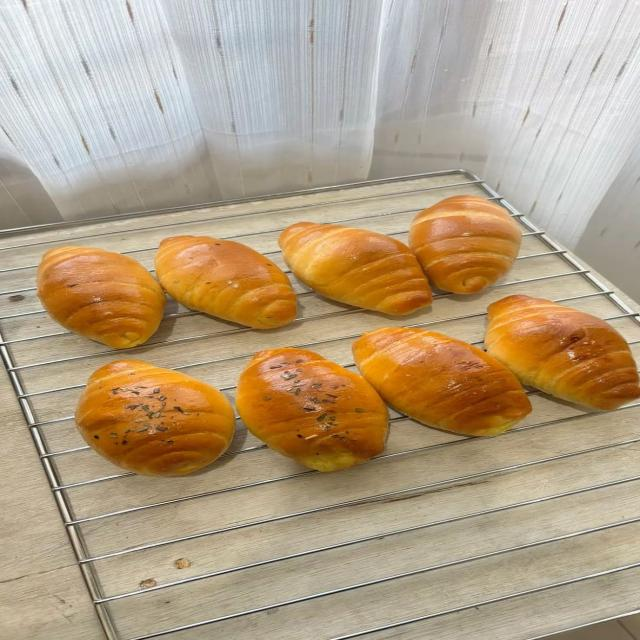bread: (354, 328, 531, 435), (236, 348, 387, 471), (75, 361, 234, 476), (486, 296, 639, 410), (279, 223, 432, 315), (38, 246, 166, 348), (155, 236, 296, 328), (409, 196, 521, 293)
